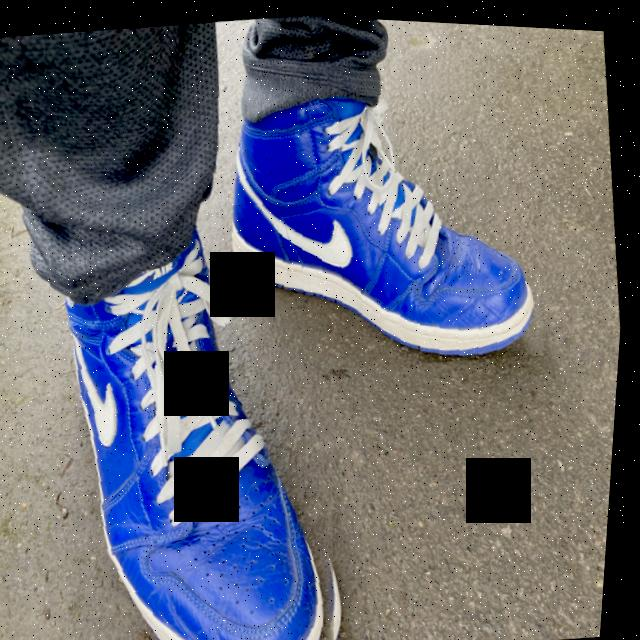shoe: (27, 188, 386, 640), (196, 41, 574, 388)
